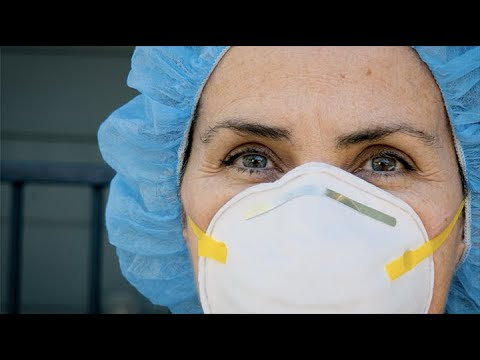with_mask: (147, 45, 474, 314)
